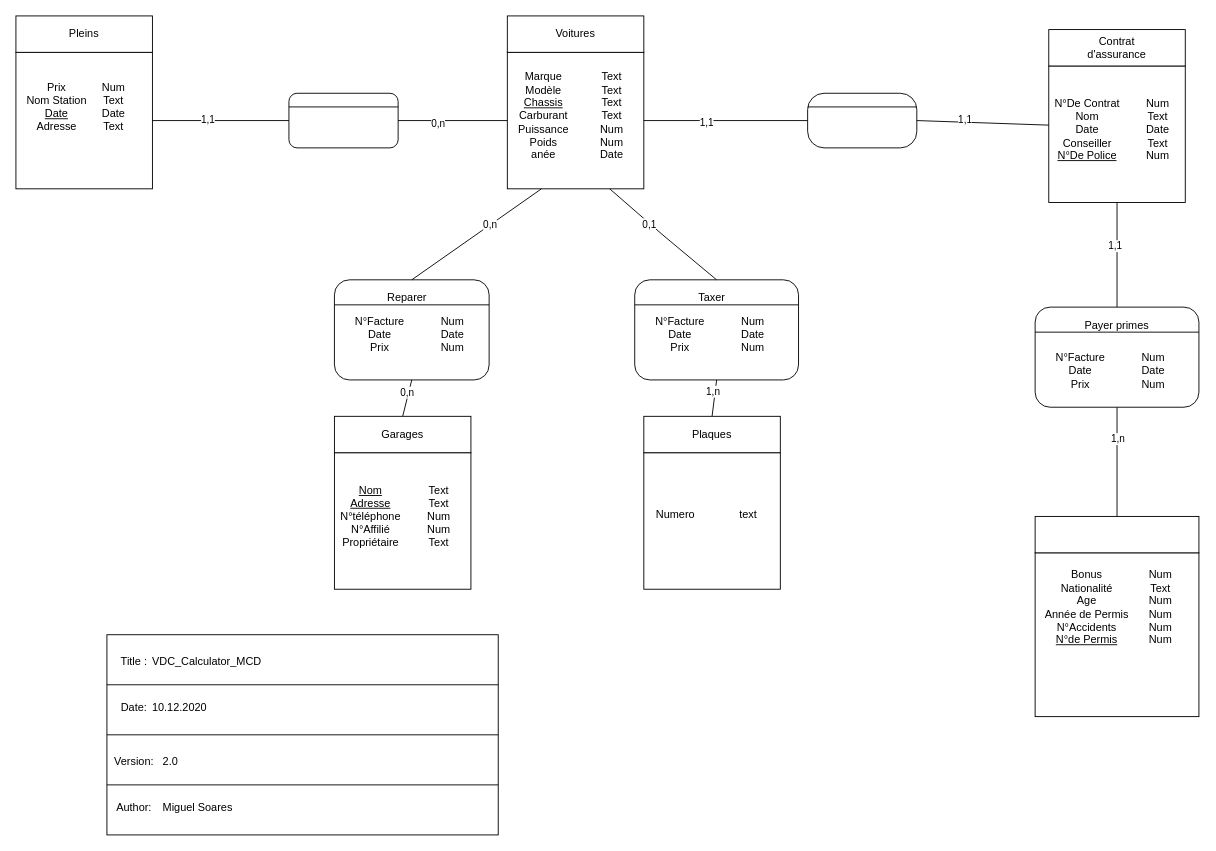
Some shapes in this 1216 by 851 pixel diagram are drawn without their labels. Each missing label, with the centre of its shape:
Assurer: (x=862, y=120)
Assurés: (x=1116, y=534)
Faire: (x=343, y=120)
